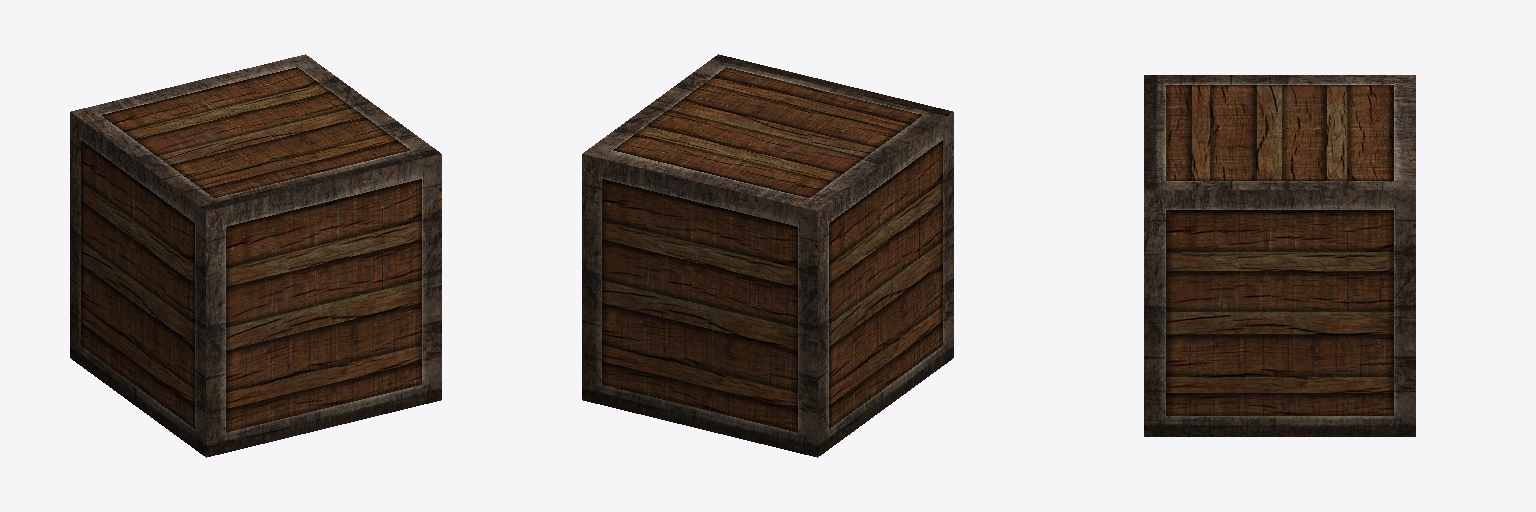
3 renders of one model, left to right at view 1: azimuth 30°, elevation 25°; view 2: azimuth 150°, elevation 25°; view 3: azimuth 270°, elevation 25°, orthographic.
Parts seen in each view (by area): view 1: container2; view 2: container2; view 3: container2.
Part boxes in pixels (x1,y1,x2,y2): container2: (70,54,441,457); container2: (582,54,953,457); container2: (1144,75,1415,436).
Bounding box in the file's own units: 1 × 1 × 1.
Materials: 1 (1 with a texture image).